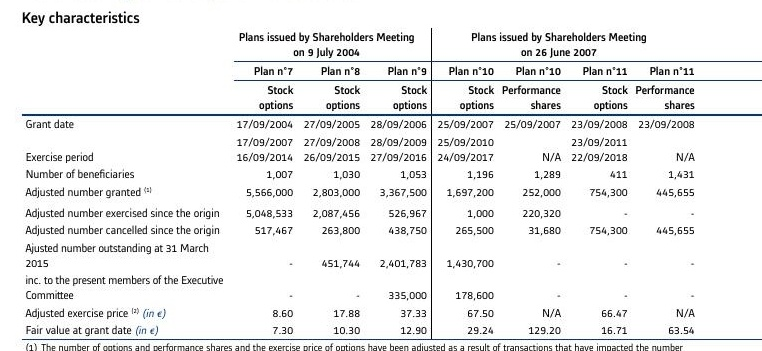table: (0, 0, 762, 351)
